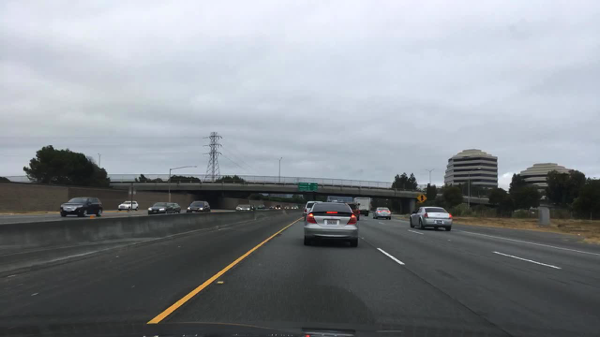bus: (326, 196, 353, 204)
car: (303, 202, 359, 247), (409, 206, 452, 230), (60, 198, 103, 217), (302, 201, 323, 222), (147, 202, 181, 214), (186, 202, 210, 212), (373, 207, 391, 220), (346, 204, 360, 220), (118, 201, 139, 211), (236, 204, 250, 212), (257, 205, 266, 211)
person: (250, 204, 257, 210), (291, 205, 298, 210), (284, 205, 290, 209), (275, 205, 281, 208), (268, 205, 274, 208)
traffic sign: (297, 183, 318, 192), (417, 194, 426, 203)
truck: (354, 197, 371, 216)
